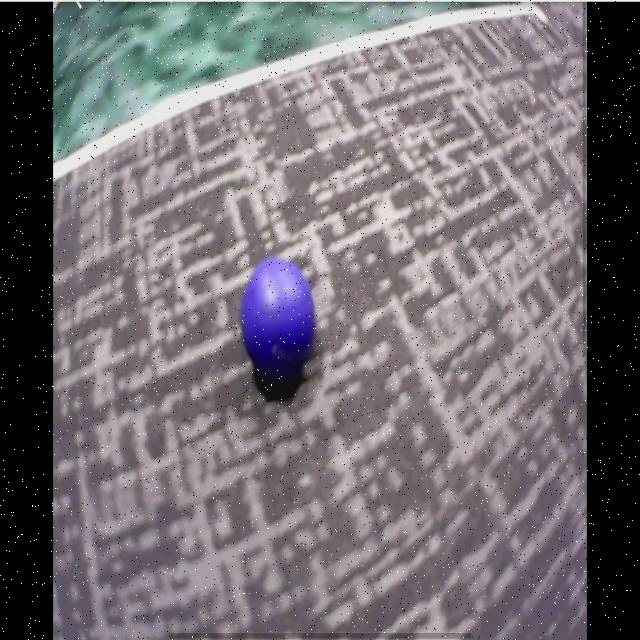ball: (240, 260, 316, 367)
